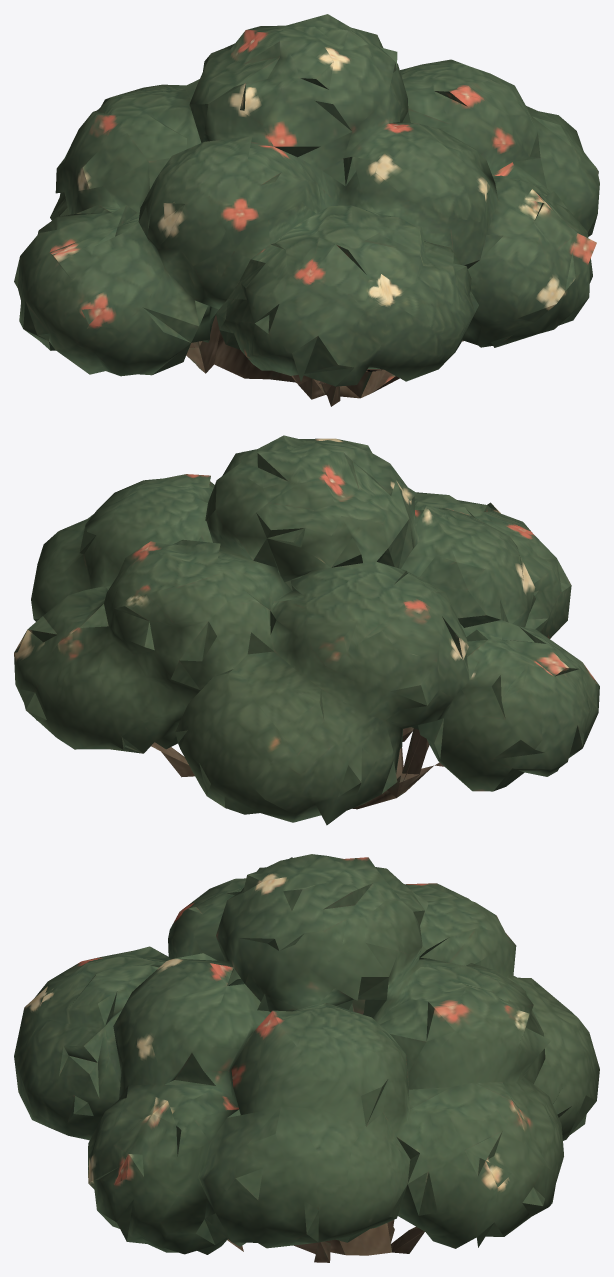
The model's file is 05_Flowering_Shrub_Clump.fbx.
The picture shows the model from 3 angles, top to bottom: view 1: azimuth 30°, elevation 25°; view 2: azimuth 150°, elevation 25°; view 3: azimuth 270°, elevation 25°; orthographic projection. The views are drawn at different scales.
Parts seen in each view (by area): view 1: 05_Flowering_Shrub_Clump; view 2: 05_Flowering_Shrub_Clump; view 3: 05_Flowering_Shrub_Clump.
Boxes of the visible parts, <box> form: 05_Flowering_Shrub_Clump: <box>14,14,599,406</box>; 05_Flowering_Shrub_Clump: <box>14,435,599,825</box>; 05_Flowering_Shrub_Clump: <box>14,854,599,1262</box>.
Bounding box in the file's own units: 1.6 × 0.9 × 1.4.
